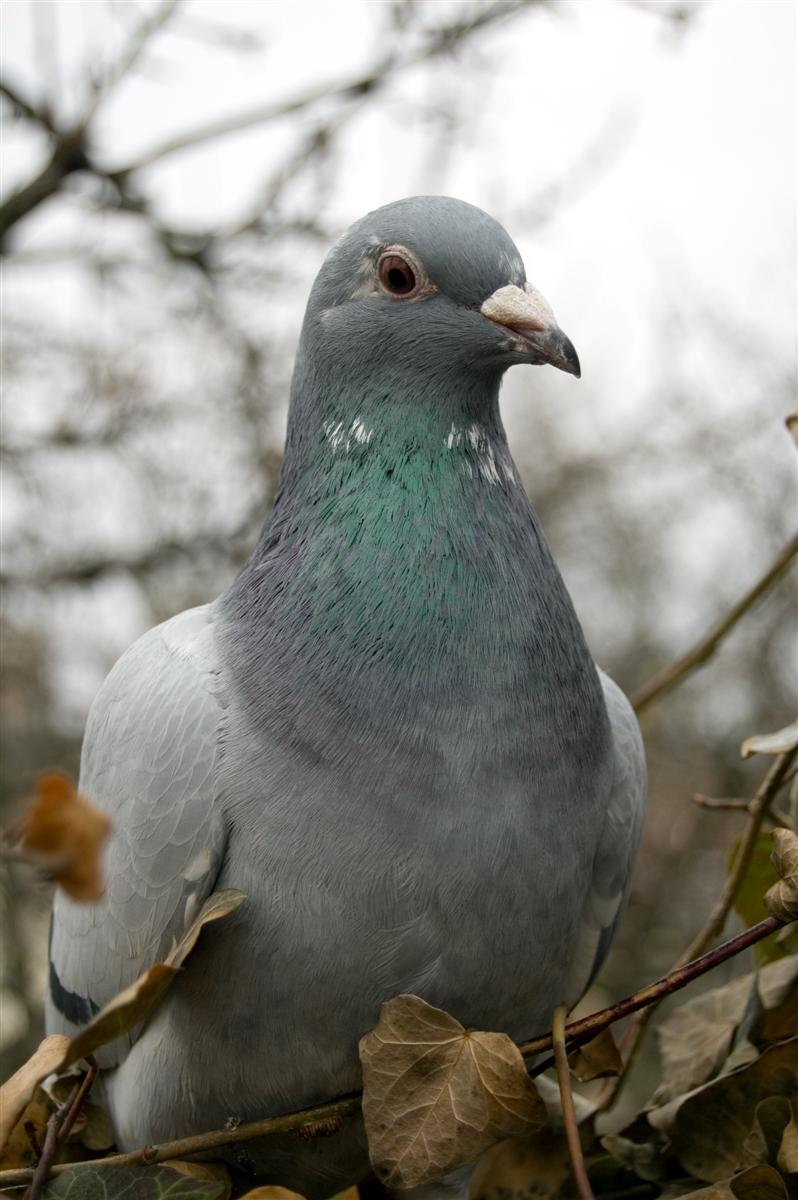pheasant: (56, 196, 668, 1097)
